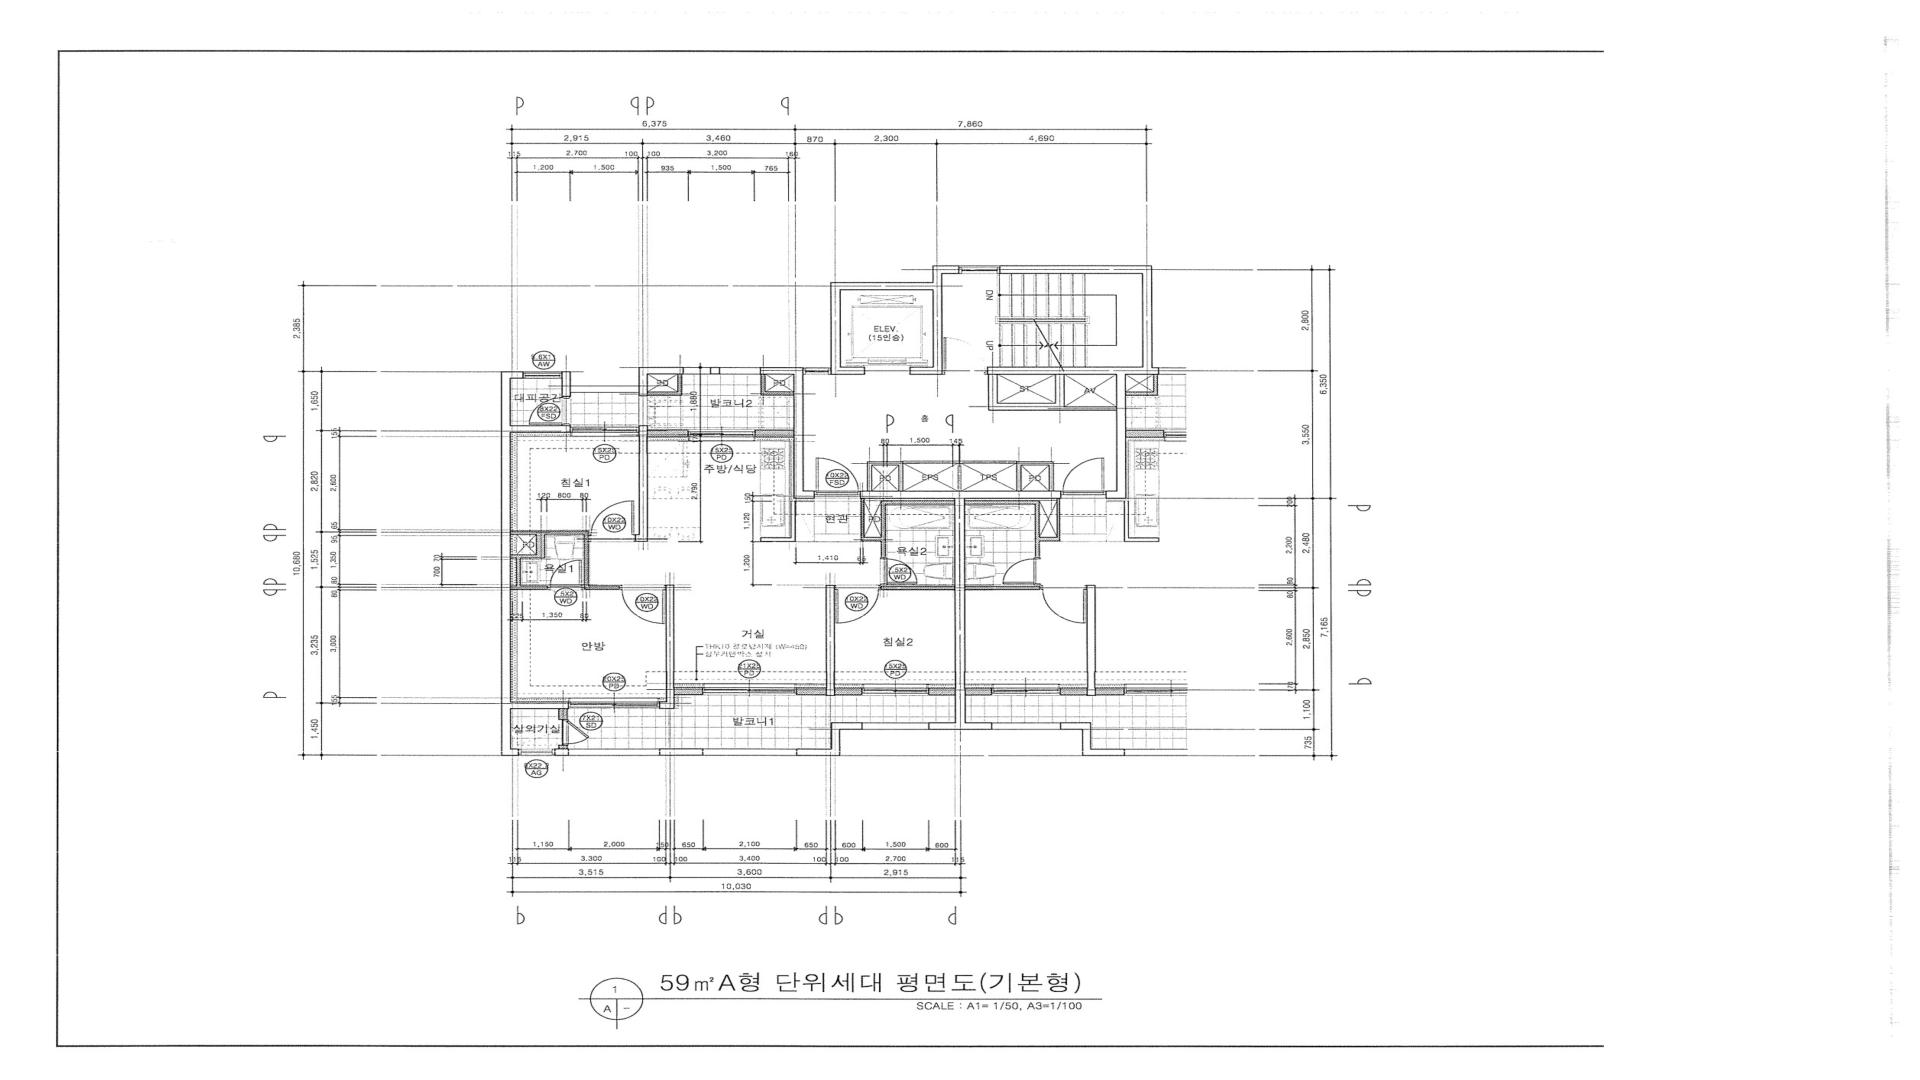door: (589, 500, 636, 542), (815, 458, 860, 498), (835, 584, 881, 624), (620, 584, 666, 624), (943, 338, 988, 375), (547, 559, 584, 591), (529, 397, 570, 425), (880, 558, 918, 585), (562, 720, 589, 745)
wall: (860, 491, 1062, 731), (986, 265, 1159, 498), (501, 372, 570, 756), (829, 265, 959, 375), (760, 367, 815, 498), (796, 584, 862, 695), (510, 530, 620, 589), (636, 426, 688, 542), (861, 498, 953, 558), (988, 375, 1116, 411), (903, 460, 1017, 491), (796, 723, 862, 756), (659, 584, 674, 709), (761, 501, 796, 542), (638, 367, 683, 396), (1017, 462, 1054, 491), (866, 462, 903, 491), (647, 375, 682, 396), (761, 375, 794, 396), (881, 585, 955, 591), (754, 430, 794, 438), (659, 749, 703, 756), (562, 372, 571, 397), (674, 687, 703, 695), (928, 688, 955, 695), (558, 708, 567, 720), (554, 749, 568, 756), (711, 367, 720, 375), (558, 745, 568, 749)
window: (703, 683, 796, 695), (568, 698, 659, 709), (862, 683, 928, 695), (570, 426, 638, 436), (688, 430, 754, 440), (703, 749, 796, 756), (568, 749, 659, 756), (571, 385, 638, 393), (862, 723, 928, 729), (959, 265, 1000, 274), (720, 367, 761, 375), (524, 372, 562, 378), (520, 749, 555, 756), (803, 367, 831, 375), (683, 367, 711, 375)
